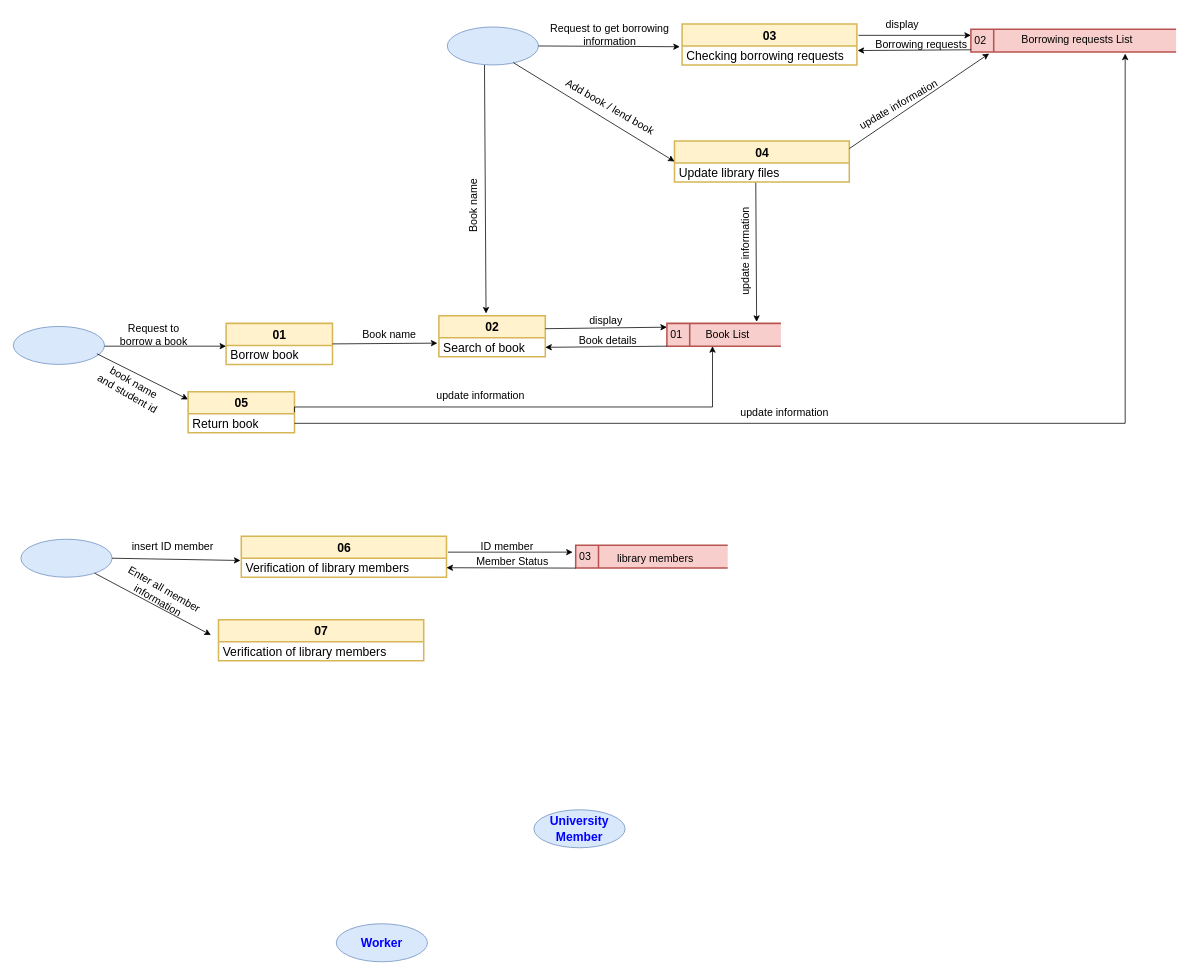
Some shapes in this 1190 by 975 pixel diagram are drawn without their labels. Each missing label, with the centre of its shape:
"Librarian" goes at point (66, 557).
"Stock manager" goes at point (492, 45).
"Student" goes at point (58, 345).
